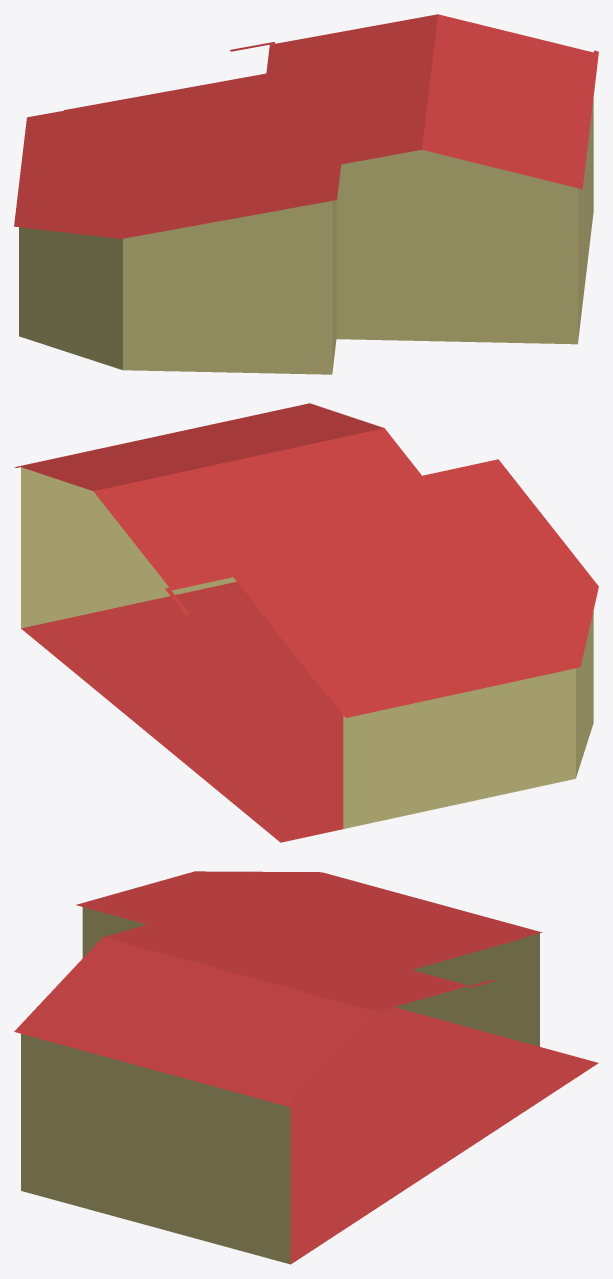
3 views of the same model, one above another, from view 1: azimuth 30°, elevation 25°; view 2: azimuth 150°, elevation 25°; view 3: azimuth 270°, elevation 25° (orthographic).
Bounding box in the file's own units: 32.82 × 28.69 × 10.63.
